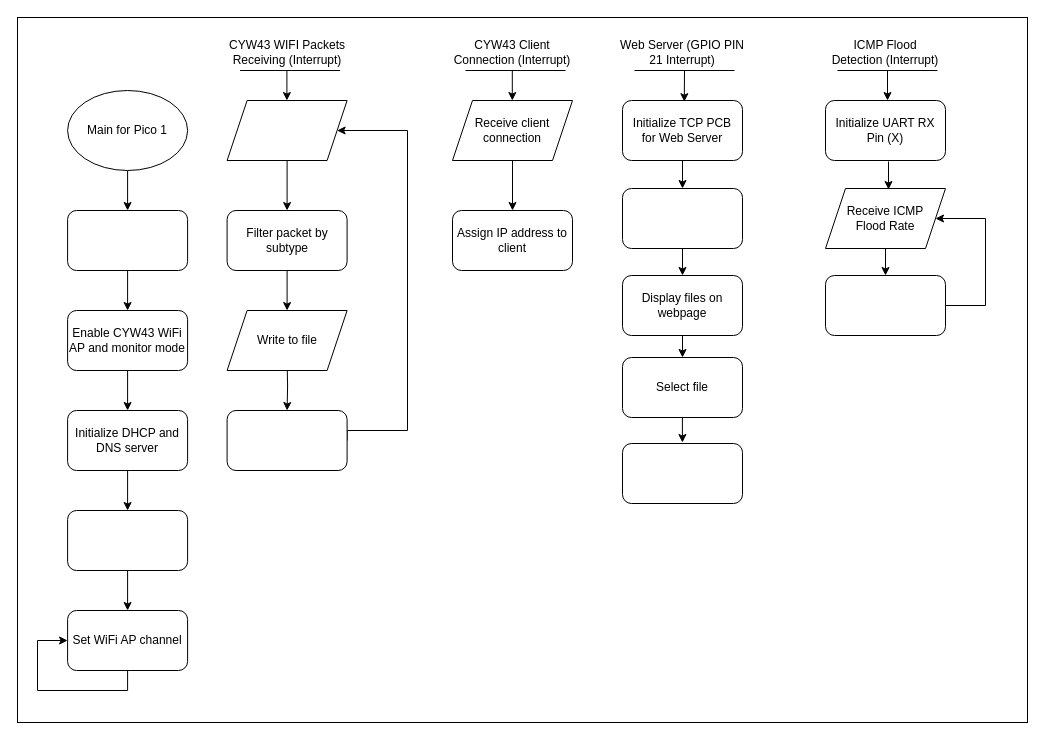
Image size: 1045x740. Some labels were removed from this diagram. Each missing label, with the box of its shape:
Capture WiFi Packets: (226, 100, 347, 160)
Display file contents: (622, 442, 742, 504)
Initialize SD card: (67, 510, 188, 570)
Initialize STDIO and WiFi interface: (67, 210, 188, 270)
Read files from SD Card: (622, 188, 742, 248)
Store file in SD card: (226, 410, 347, 470)
Store to SD card: (824, 274, 946, 336)
